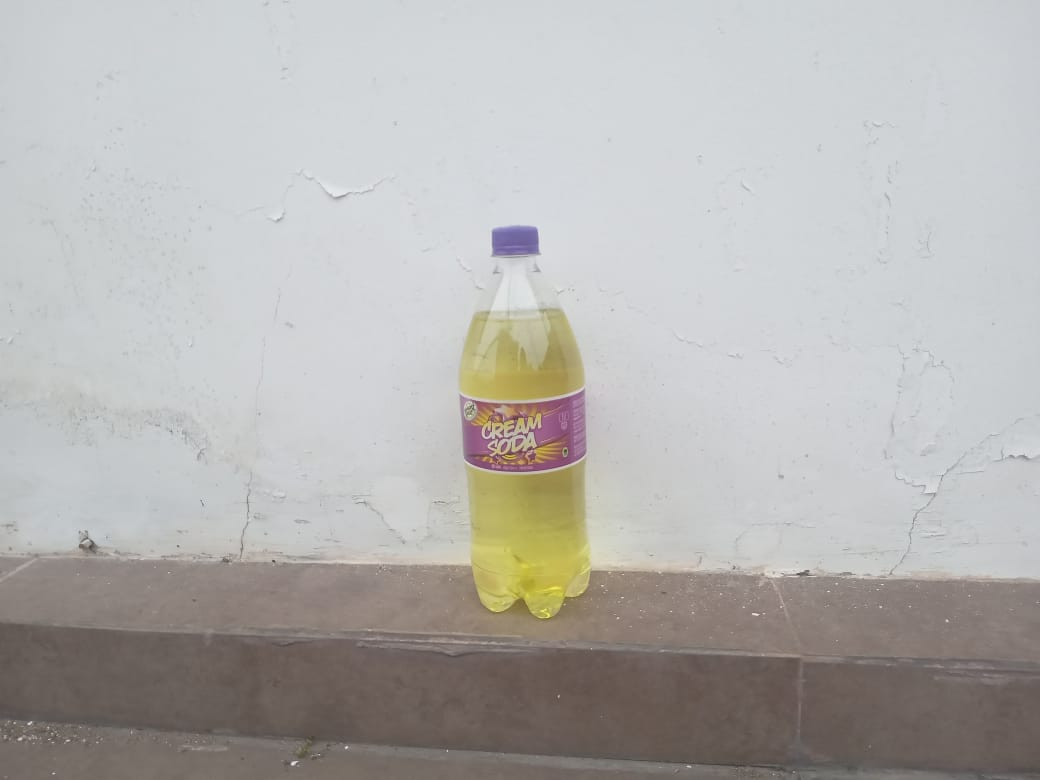M: (450, 220, 597, 632)
